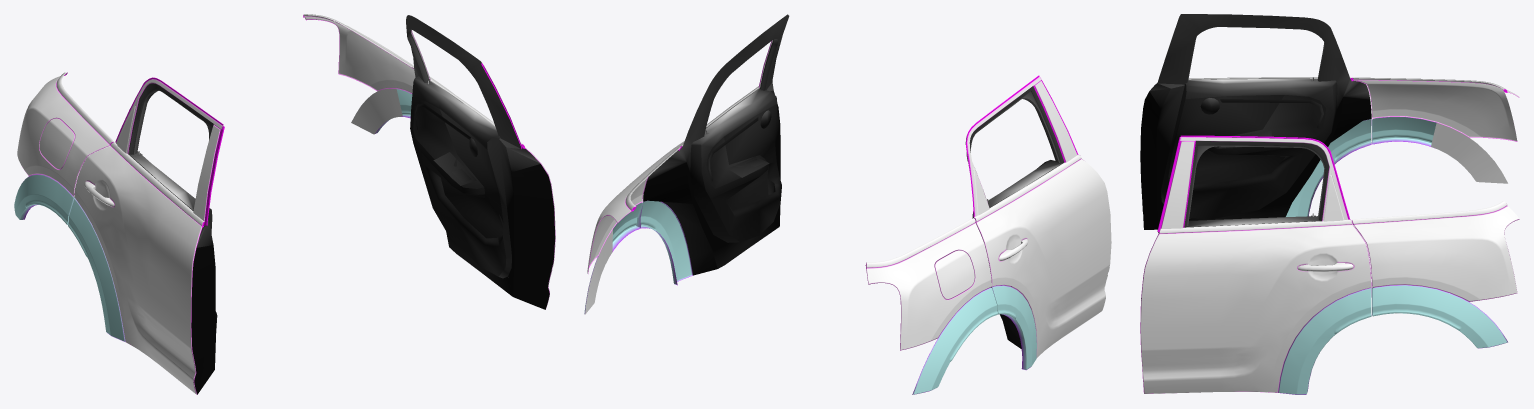
Rendered from Car_Mini_CountrymanJCW_2017_FendersR_SetA_AltA.fbx.
3 views of the same model, side by side, from view 1: azimuth 30°, elevation 25°; view 2: azimuth 150°, elevation 25°; view 3: azimuth 270°, elevation 25° (orthographic). The views are drawn at different scales.
Parts seen in each view (by area): view 1: FendersR 6; view 2: FendersR 6; view 3: FendersR 6.
Boxes of the visible parts, <box> form: FendersR 6: <box>14,14,555,394</box>; FendersR 6: <box>584,14,1111,394</box>; FendersR 6: <box>1140,14,1519,394</box>.
Size of the model in its own units: 1.82 by 1.14 by 1.66.
